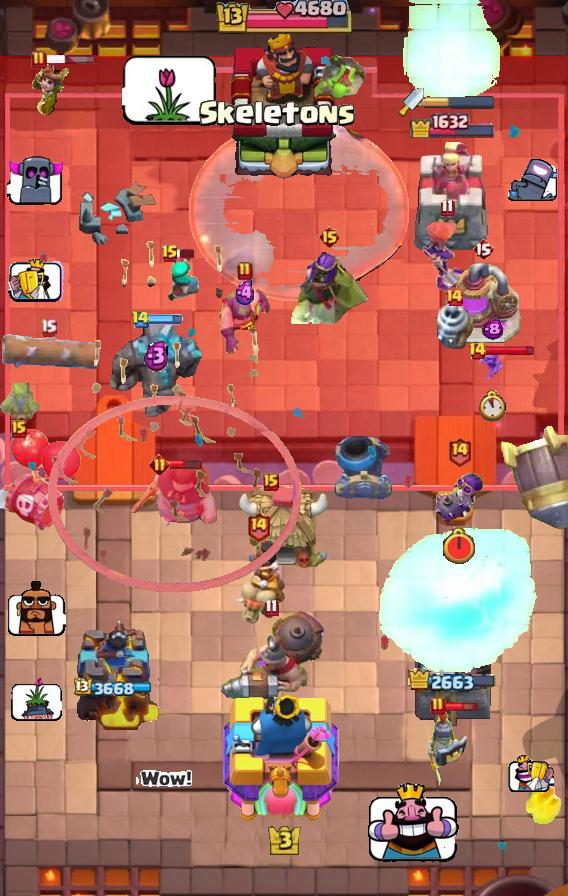bar: (412, 140, 494, 256)
bar-level: (310, 52, 368, 100)
barbarian-hut: (284, 250, 374, 324)
bomber-evolution: (30, 56, 74, 116)
cannoneer-tower: (107, 319, 205, 421)
clock: (213, 0, 355, 38)
electro-spirit: (143, 339, 170, 372), (234, 280, 259, 306), (481, 320, 502, 341)
elite-barbarian: (230, 540, 286, 628)
elixir: (441, 526, 477, 566), (477, 390, 507, 422)
emote: (484, 343, 535, 357), (44, 54, 96, 65), (444, 699, 479, 712), (169, 458, 204, 470), (147, 315, 183, 326), (176, 248, 196, 259)
goblin-ball: (433, 472, 485, 528)
goblin-drill: (432, 299, 476, 351)
heal-spirit: (478, 349, 506, 383)
king-tower: (222, 31, 346, 181), (223, 689, 345, 826)
king-tower-bar: (424, 95, 496, 109)
mega-knight: (374, 527, 540, 677), (401, 0, 504, 108)
minion: (0, 329, 102, 373)
monk: (218, 286, 272, 356)
musketeer: (334, 435, 394, 499)
pekka: (444, 263, 522, 345)
phoenix-egg: (188, 119, 412, 303)
prince: (238, 484, 332, 574)
princess: (425, 706, 469, 788)
queen-tower: (66, 617, 162, 731)
royal-hog: (128, 460, 222, 530)
royal-recruit-evolution: (0, 428, 82, 534)
selected: (409, 110, 497, 138), (408, 669, 498, 696), (74, 678, 154, 698)
skeleton: (367, 782, 459, 864), (122, 54, 218, 126), (6, 579, 66, 636), (6, 154, 65, 206), (7, 259, 64, 303), (10, 676, 62, 722), (507, 159, 558, 203), (508, 755, 554, 792)
skeleton-barrel: (46, 239, 302, 594)
tesla-evolution: (421, 217, 473, 294)
text: (447, 436, 472, 467), (245, 511, 270, 542), (319, 225, 342, 249), (472, 237, 494, 261), (149, 453, 170, 475), (444, 287, 464, 307), (468, 341, 487, 361), (161, 244, 179, 264), (130, 311, 150, 329), (39, 318, 57, 337), (31, 50, 47, 70), (237, 261, 253, 281), (430, 696, 446, 716), (11, 420, 27, 438), (263, 473, 279, 491), (264, 598, 279, 617), (440, 199, 455, 217)
tower-bar: (410, 611, 496, 731)
valkyrie: (521, 786, 567, 828)
witch: (166, 254, 204, 304)
wizard: (215, 609, 327, 707)
x-bow: (500, 424, 568, 532)
zap: (0, 383, 44, 425)
